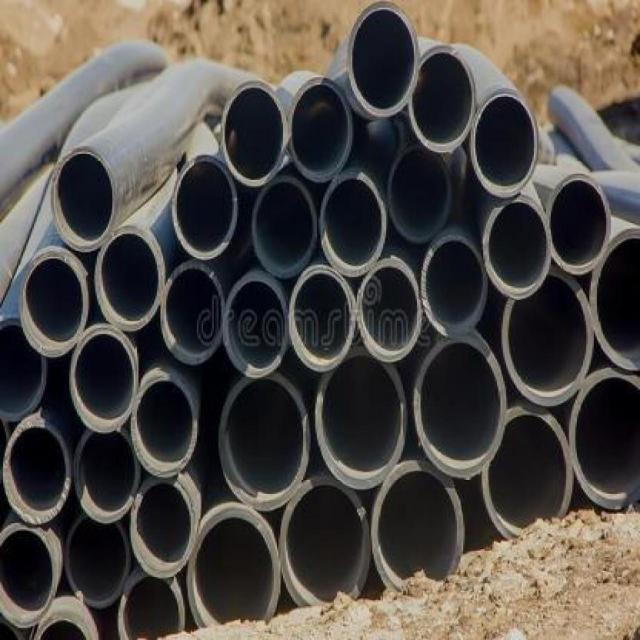pipe: (413, 335, 507, 480), (316, 347, 408, 487), (503, 268, 594, 407), (219, 372, 310, 511), (483, 405, 574, 541), (279, 474, 372, 607), (373, 461, 464, 592), (188, 506, 281, 629), (569, 369, 640, 509), (346, 1, 420, 115), (95, 226, 166, 332), (471, 88, 539, 198), (19, 250, 89, 356), (408, 45, 476, 153), (483, 194, 552, 300), (319, 171, 387, 277), (70, 327, 138, 432), (286, 76, 353, 182), (221, 80, 288, 186), (50, 146, 117, 252), (288, 265, 355, 371), (2, 421, 70, 525), (383, 147, 454, 246), (131, 372, 197, 478), (171, 154, 238, 258), (591, 226, 639, 371), (130, 476, 197, 579), (222, 272, 287, 378), (545, 172, 612, 274), (421, 234, 488, 336), (357, 258, 422, 363), (160, 261, 225, 365), (63, 517, 134, 612), (252, 176, 317, 278), (74, 428, 139, 523), (0, 523, 57, 628), (0, 317, 46, 421), (118, 572, 185, 640)
